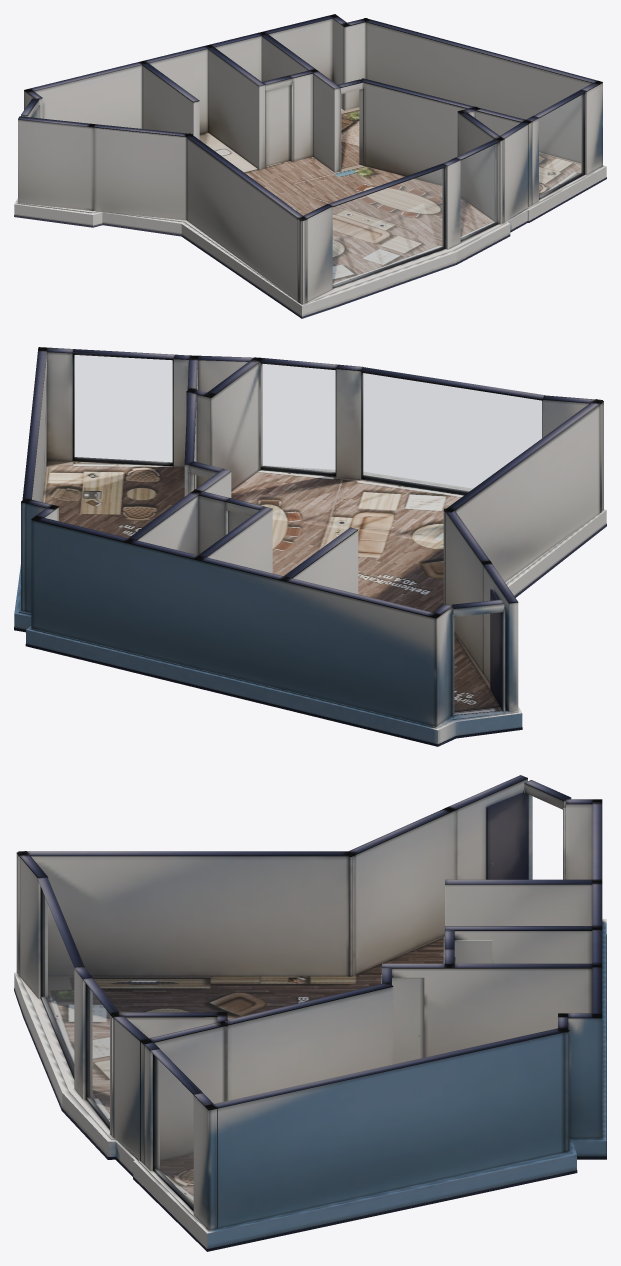
3 renders of one model, top to bottom at view 1: azimuth 30°, elevation 25°; view 2: azimuth 150°, elevation 25°; view 3: azimuth 270°, elevation 25°, orthographic. The views are drawn at different scales.
Parts seen in each view (by area): view 1: plan, glass0_m, glass2_m, glass1_m; view 2: plan, glass0_m, glass2_m, glass1_m; view 3: plan, glass2_m, glass0_m, glass1_m.
Boxes of the visible parts, box(x1,y1,x2,y2) form: plan: box(14, 14, 606, 318); glass0_m: box(333, 168, 443, 285); glass2_m: box(539, 94, 582, 196); glass1_m: box(461, 144, 497, 238); plan: box(14, 347, 606, 746); glass0_m: box(363, 373, 541, 491); glass2_m: box(74, 355, 172, 462); glass1_m: box(262, 364, 335, 472); plan: box(14, 775, 606, 1251); glass2_m: box(155, 1057, 193, 1205); glass0_m: box(43, 894, 73, 1070); glass1_m: box(88, 987, 109, 1124).
Size of the model in its own units: 13.66 by 2.62 by 10.08.
Materials: 2 (1 with a texture image).
